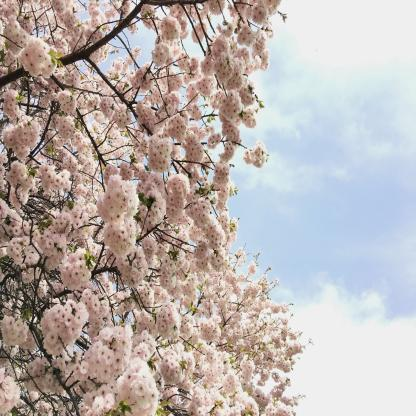YaeSakura: (0, 0, 309, 414)
